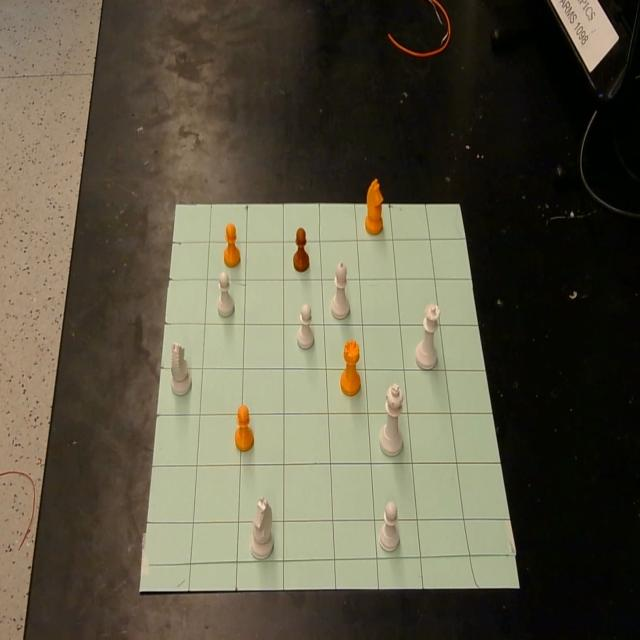orange_knight: (365, 178, 384, 235)
orange_pawn: (235, 404, 254, 452), (223, 222, 240, 267), (293, 228, 310, 272)
orange_rook: (340, 339, 361, 396)
white_bishop: (331, 261, 350, 319)
white_king: (379, 383, 404, 456)
white_knight: (250, 496, 273, 559), (170, 341, 191, 395)
white_pawn: (379, 500, 400, 552), (217, 270, 234, 317), (297, 304, 314, 349)
white_queen: (415, 302, 440, 370)
